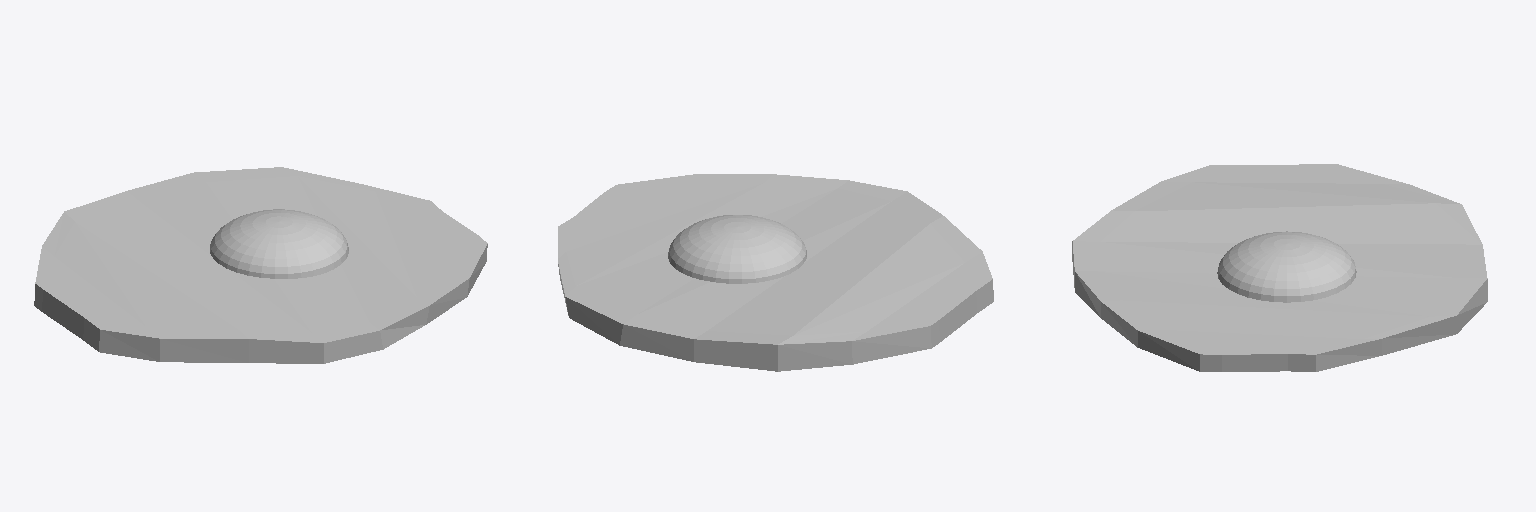
File: cracked-egg_cooked.obj
The picture shows the model from 3 angles: view 1: azimuth 30°, elevation 25°; view 2: azimuth 150°, elevation 25°; view 3: azimuth 270°, elevation 25°; orthographic projection.
Visible parts, largest first — view 1: Cube, Sphere; view 2: Cube, Sphere; view 3: Cube, Sphere.
Boxes of the visible parts, <box> form: Cube: <box>34,167,487,363</box>; Sphere: <box>210,209,348,278</box>; Cube: <box>558,174,993,371</box>; Sphere: <box>668,215,806,283</box>; Cube: <box>1072,164,1487,371</box>; Sphere: <box>1217,231,1356,302</box>.
Bounding box in the file's own units: 3.41 × 0.4274 × 3.18.